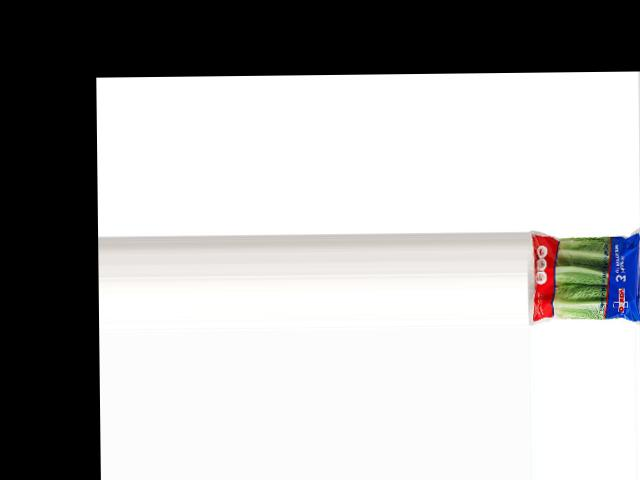lettuce: (527, 231, 640, 323)
